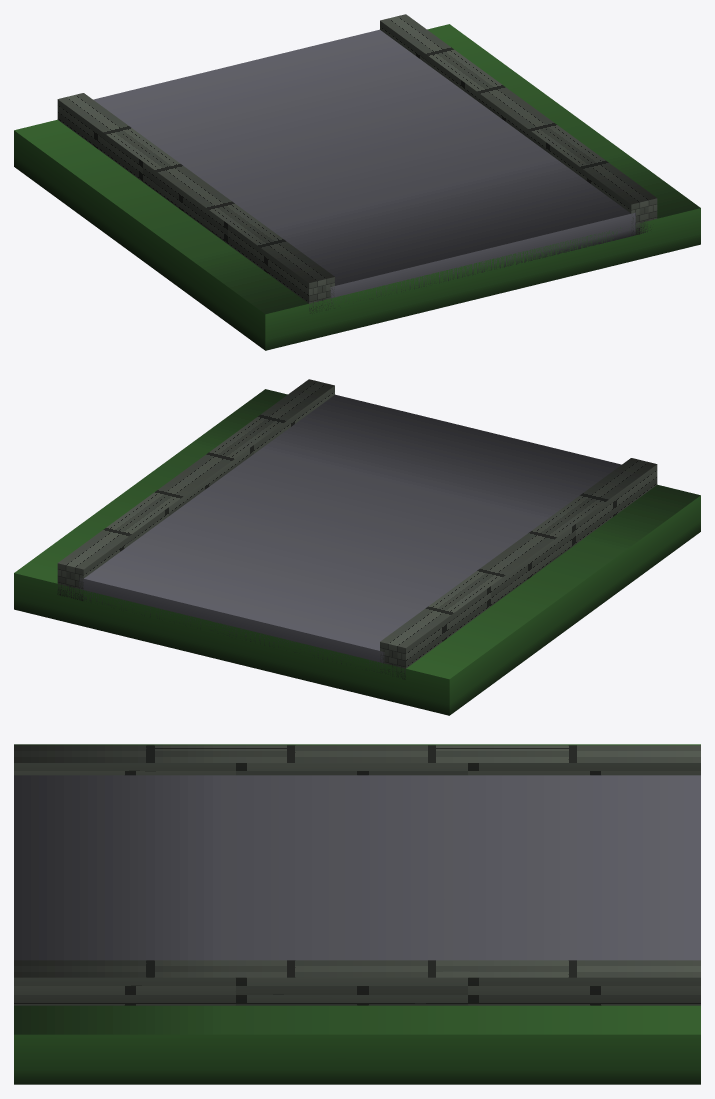
File: road_straight.gltf
3 renders of one model, top to bottom at view 1: azimuth 30°, elevation 25°; view 2: azimuth 150°, elevation 25°; view 3: azimuth 270°, elevation 25°, orthographic. The views are drawn at different scales.
Visible parts, largest first — view 1: road_straight; view 2: road_straight; view 3: road_straight.
Part boxes in pixels (<box>): road_straight: <box>14,14,700,350</box>; road_straight: <box>14,379,700,715</box>; road_straight: <box>14,744,700,1084</box>.
Bounding box in the file's own units: 1 × 0.125 × 1.
1 material, 1 textured.
